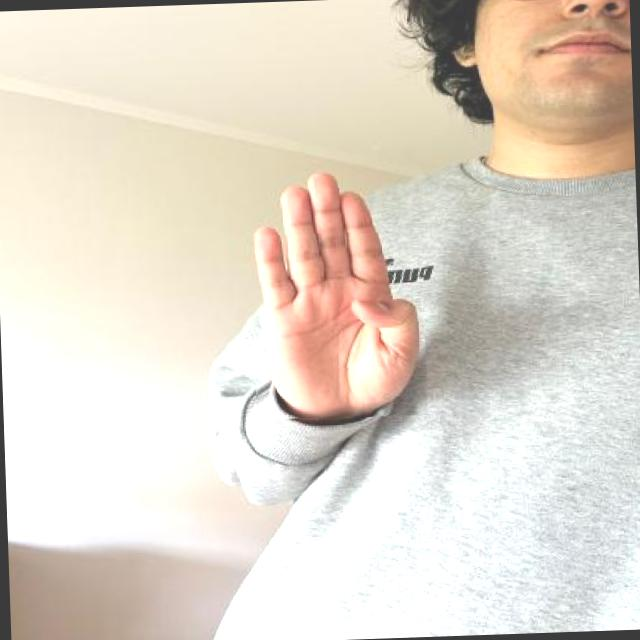B: (243, 162, 427, 420)
